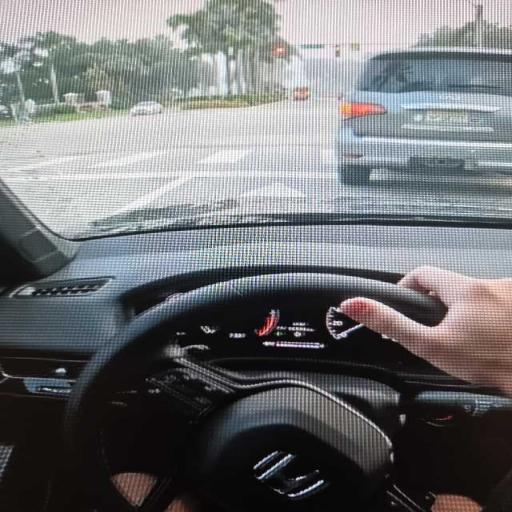car: (337, 48, 511, 183), (130, 101, 164, 116), (0, 106, 11, 118)
lane: (0, 104, 511, 233)
person: (340, 267, 511, 396)
